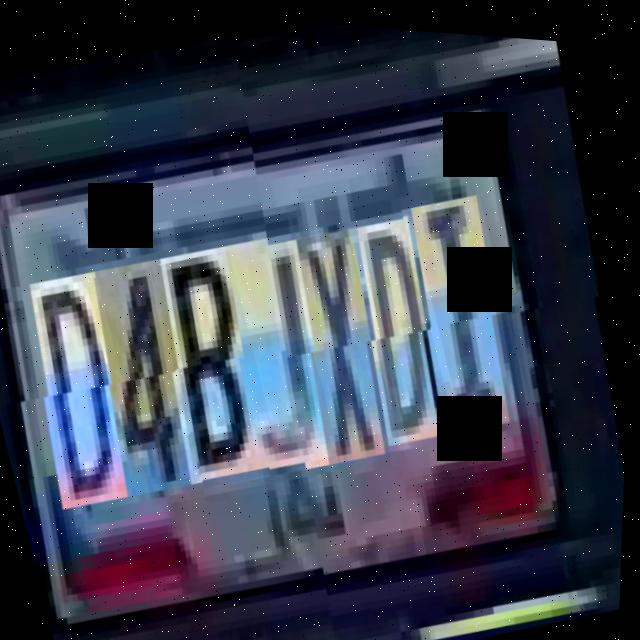4: (82, 256, 228, 503)
B: (147, 242, 293, 489)
D: (17, 270, 163, 517), (343, 204, 472, 439)
I: (396, 182, 542, 429)
J: (212, 227, 362, 475)
X: (281, 216, 419, 460)
